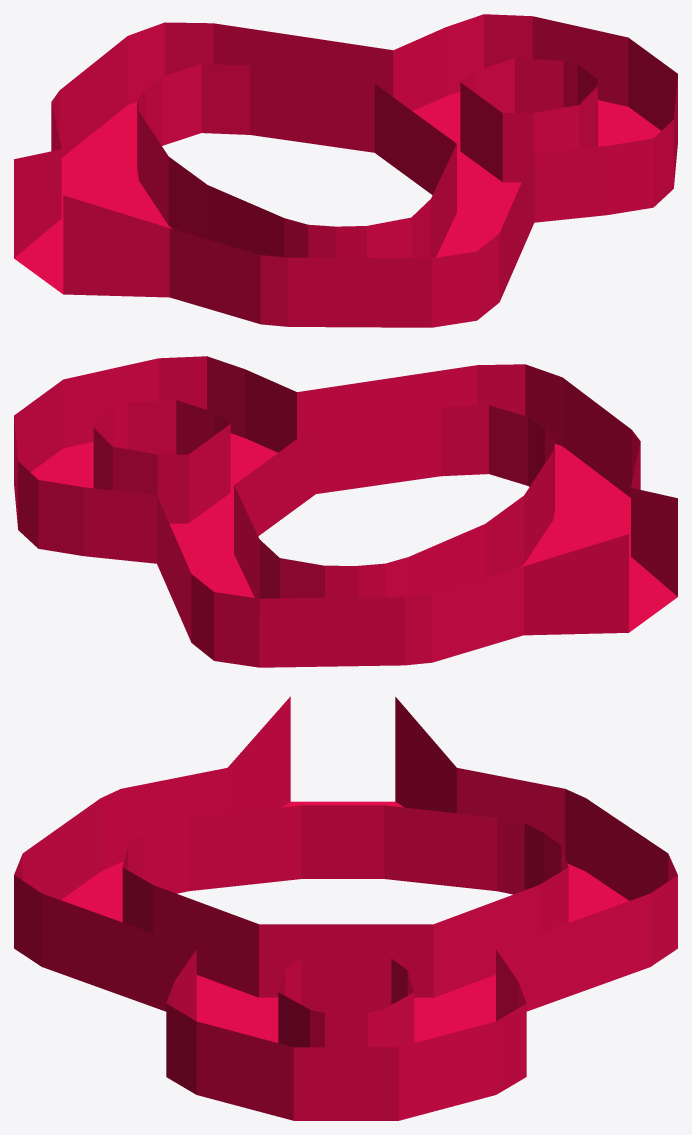
File: CorridoioRicarica.fbx
3 views of the same model, one above another, from view 1: azimuth 30°, elevation 25°; view 2: azimuth 150°, elevation 25°; view 3: azimuth 270°, elevation 25° (orthographic). The views are drawn at different scales.
Parts seen in each view (by area): view 1: polySurface48; view 2: polySurface48; view 3: polySurface48.
Boxes of the visible parts, left/top/right/bottom form: polySurface48: left=14, top=14, right=677, bottom=327; polySurface48: left=14, top=356, right=677, bottom=667; polySurface48: left=14, top=696, right=677, bottom=1120.
Bounding box in the file's own units: 6.15 × 0.947 × 5.41.
